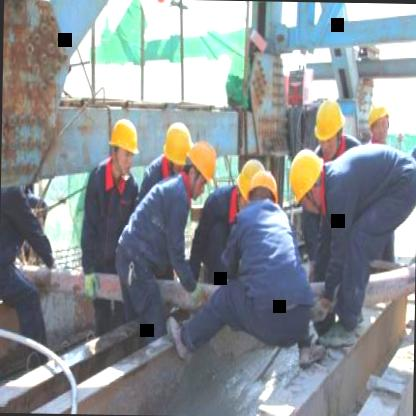helmet: (285, 143, 328, 213), (312, 91, 348, 158), (160, 117, 193, 187), (105, 113, 141, 177), (182, 138, 217, 197), (244, 168, 278, 211), (365, 96, 393, 146), (234, 157, 265, 200)
